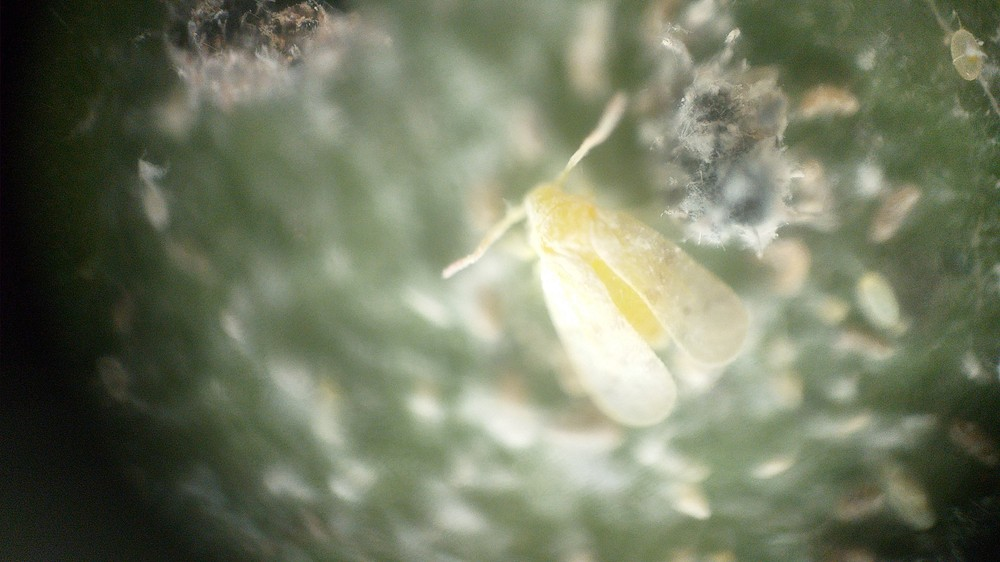Mosca Blanca: (428, 99, 768, 433)
